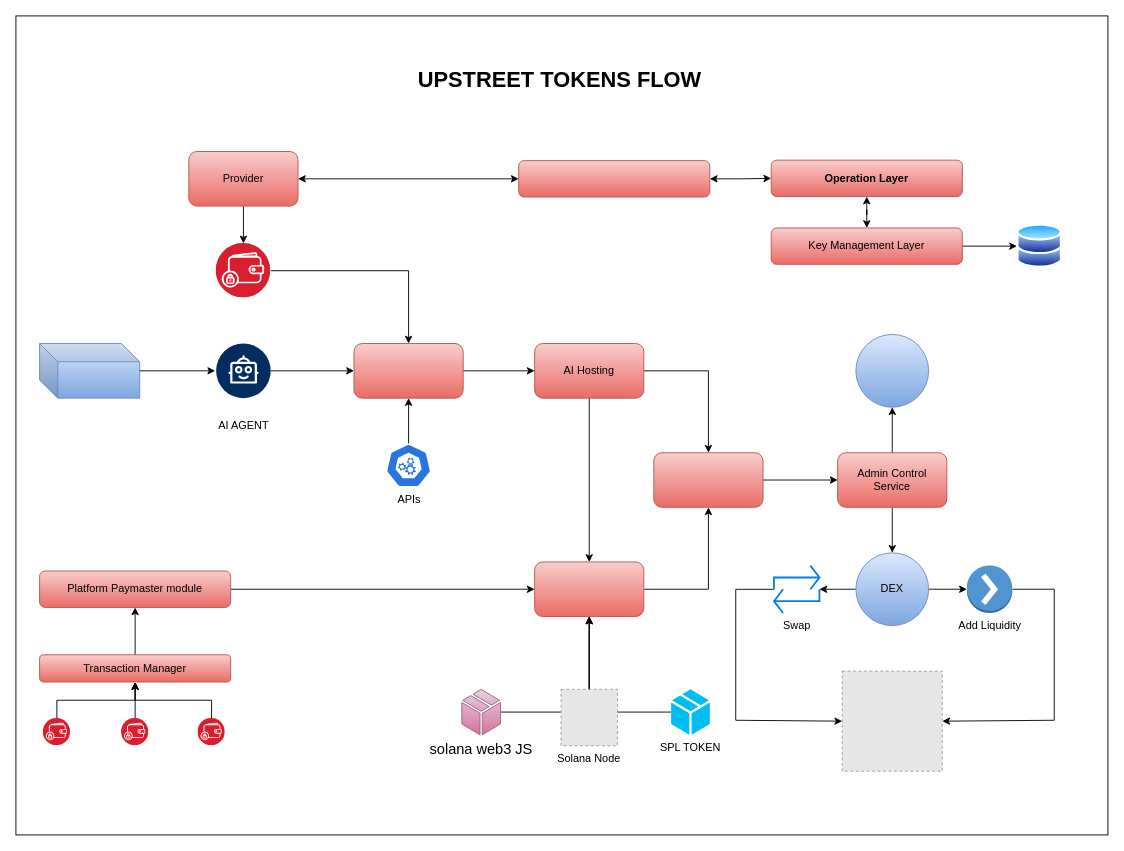
This 1124x851 diagram has some shape labels left out. Grey dashed boxes stand in for pictures. Here are the shapes that lost their labels. From the top down, the centre of each, then its label:
At point 614,178: "Wallet Service API".
At point 1039,245: "Key Store".
At point 243,270: "Deployer wallet".
At point 89,370: "ELIZA".
At point 408,370: "Core Service".
At point 892,370: "Funds".
At point 708,479: "AI/Token Indexer".
At point 589,589: "Token Deployer Service".
